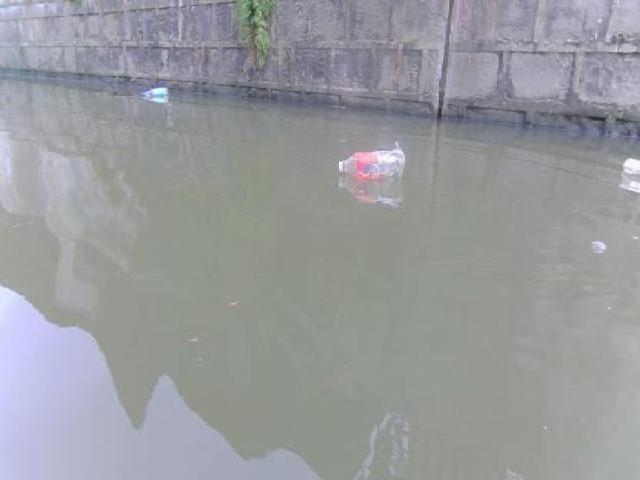Bottle: (328, 145, 408, 189)
